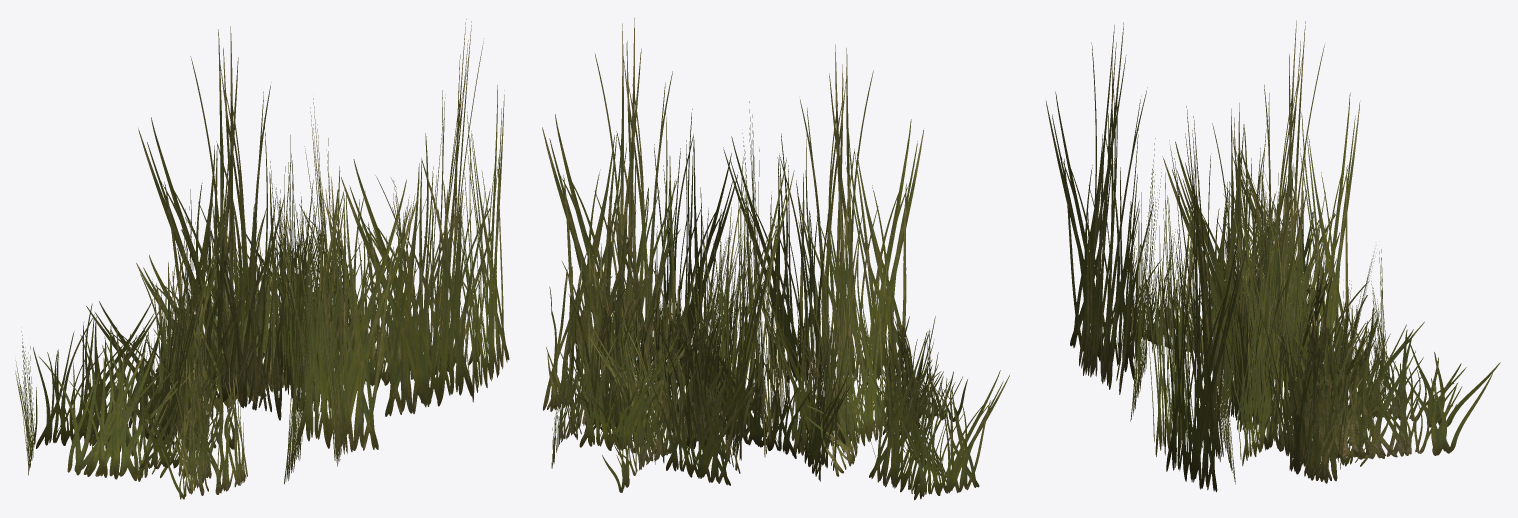
The model's file is SM_KB3D_ENC_Grass.fbx.
3 renders of one model, left to right at view 1: azimuth 30°, elevation 25°; view 2: azimuth 150°, elevation 25°; view 3: azimuth 270°, elevation 25°, orthographic. The views are drawn at different scales.
Parts seen in each view (by area): view 1: KB3D_ENC_Grass; view 2: KB3D_ENC_Grass; view 3: KB3D_ENC_Grass.
Boxes of the visible parts, <box> form: KB3D_ENC_Grass: <box>15,19,509,499</box>; KB3D_ENC_Grass: <box>542,17,1009,500</box>; KB3D_ENC_Grass: <box>1046,20,1500,492</box>.
Bounding box in the file's own units: 106 × 81.28 × 85.75.
